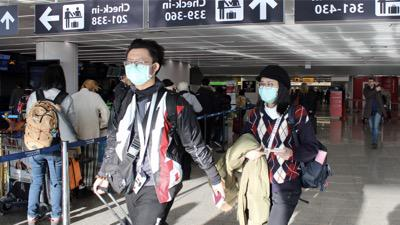with_mask: (125, 57, 151, 86), (258, 80, 278, 104)
without_mask: (367, 81, 373, 86)
